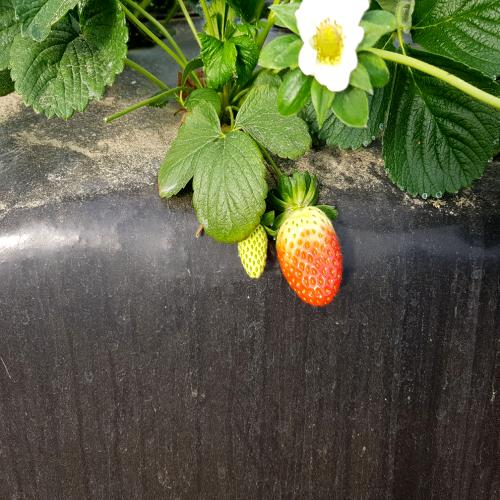unripe: (266, 205, 354, 322)
